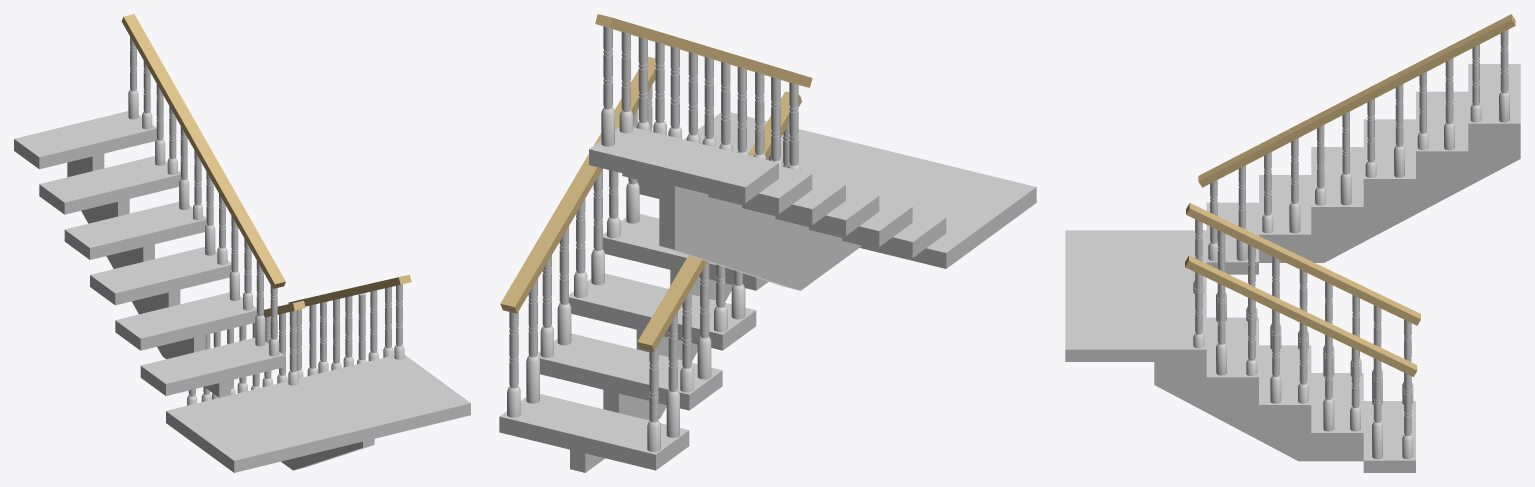
File: StairCase_170.gltf
3 renders of one model, left to right at view 1: azimuth 30°, elevation 25°; view 2: azimuth 150°, elevation 25°; view 3: azimuth 270°, elevation 25°, orthographic. The views are drawn at different scales.
Visible parts, largest first — view 1: node-0; view 2: node-0; view 3: node-0.
Boxes of the visible parts, left/top/right/bottom form: node-0: left=14, top=14, right=470, bottom=472; node-0: left=499, top=14, right=1036, bottom=472; node-0: left=1065, top=14, right=1520, bottom=472.
Bounding box in the file's own units: 60.08 × 95.7 × 96.8.
